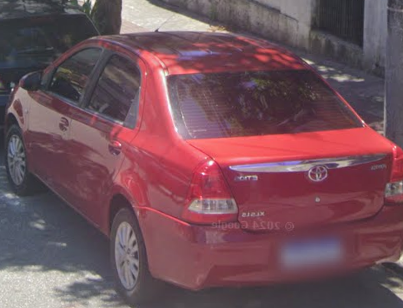car: (5, 28, 402, 299)
